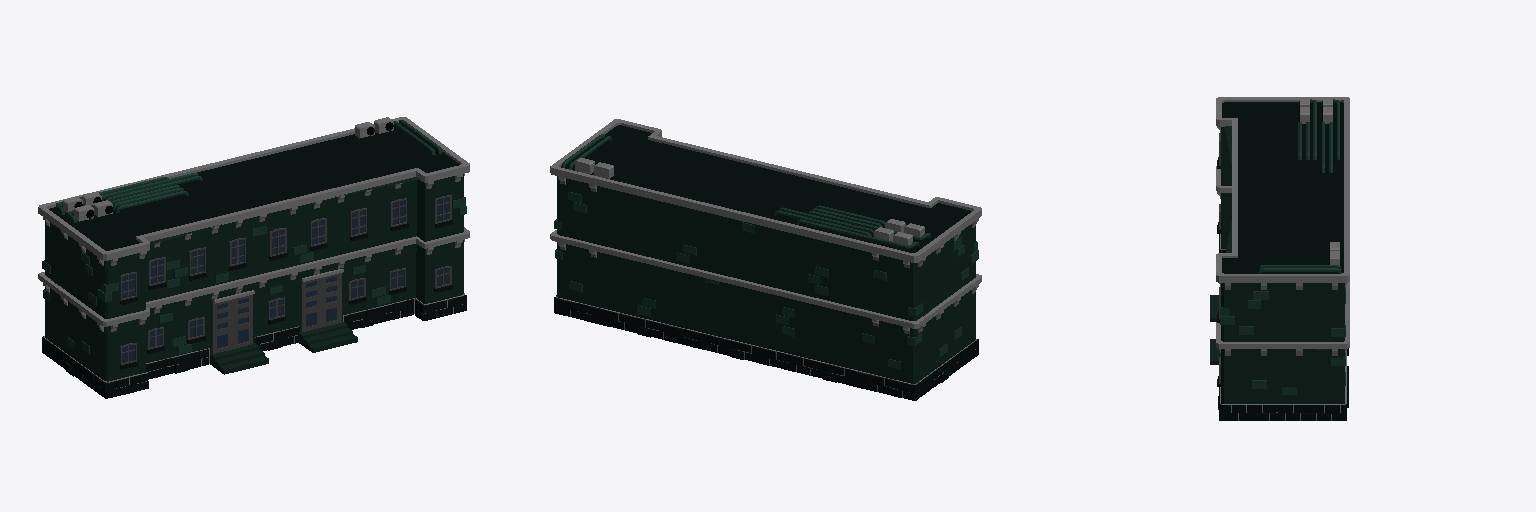
File: 2Story_Wide_2Doors_Mat.obj
3 views of the same model, side by side, from view 1: azimuth 30°, elevation 25°; view 2: azimuth 150°, elevation 25°; view 3: azimuth 270°, elevation 25° (orthographic).
Parts seen in each view (by area): view 1: 2Story_Wide_2Doors_Mat_Cube.018; view 2: 2Story_Wide_2Doors_Mat_Cube.018; view 3: 2Story_Wide_2Doors_Mat_Cube.018.
Boxes of the visible parts, box(x1,y1,x2,y2) form: 2Story_Wide_2Doors_Mat_Cube.018: box(38, 117, 469, 398); 2Story_Wide_2Doors_Mat_Cube.018: box(550, 119, 981, 400); 2Story_Wide_2Doors_Mat_Cube.018: box(1210, 97, 1349, 420).
Size of the model in its own units: 6.83 by 2.75 by 2.26.